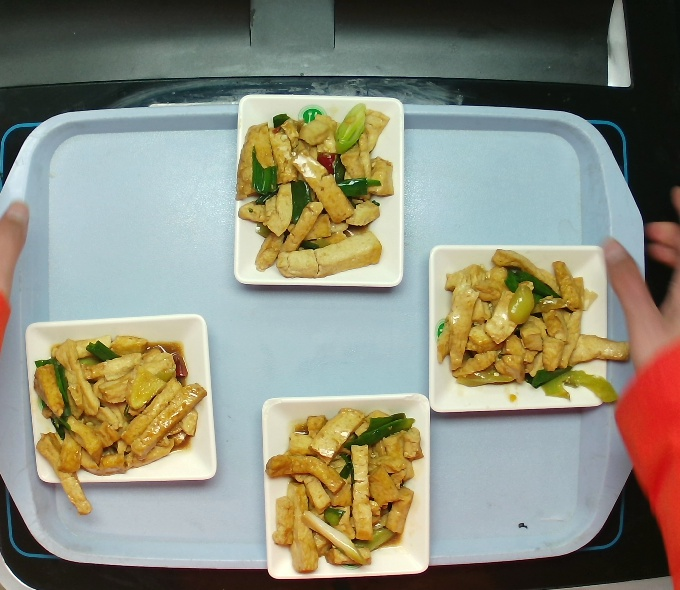wcq-SuanMiaoChaoXiangGan: (36, 325, 205, 504), (234, 104, 397, 282), (446, 244, 615, 412), (264, 407, 426, 570)
